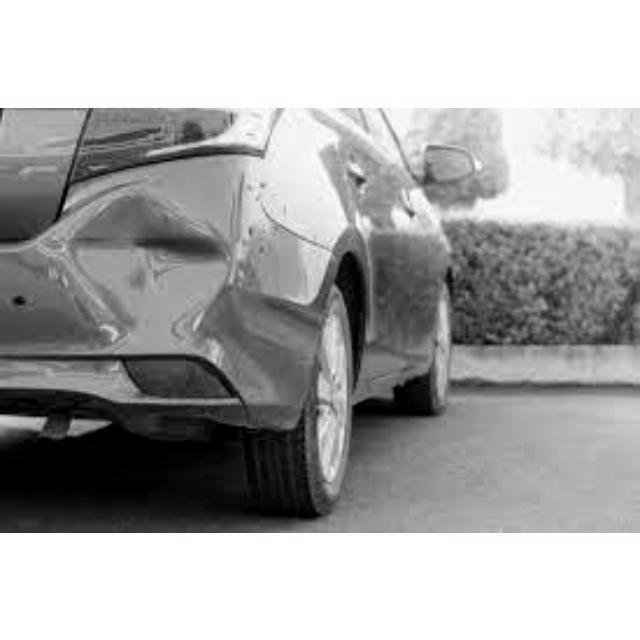rear-bumper-dent: (45, 182, 242, 342)
